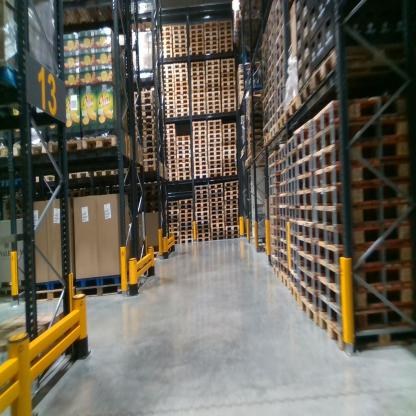pallet: (309, 42, 399, 96), (314, 95, 405, 144), (317, 289, 412, 330), (319, 314, 413, 354), (313, 174, 413, 211), (318, 275, 412, 314), (317, 259, 410, 297), (316, 139, 414, 175), (318, 218, 412, 255), (318, 241, 412, 275), (314, 121, 406, 153), (312, 159, 412, 187), (314, 201, 414, 228), (73, 281, 128, 308), (81, 131, 128, 160), (30, 288, 75, 311), (298, 265, 321, 308), (128, 13, 161, 37), (45, 137, 87, 155), (12, 139, 46, 161), (295, 75, 313, 113), (296, 234, 324, 258), (27, 171, 62, 189), (2, 281, 31, 301), (293, 121, 314, 148), (297, 223, 321, 245), (63, 167, 93, 184), (115, 162, 143, 180), (296, 252, 321, 272), (295, 140, 312, 169), (300, 299, 318, 325), (4, 174, 39, 187), (296, 156, 314, 180), (295, 172, 316, 192), (297, 189, 316, 211), (91, 166, 115, 182), (131, 88, 156, 102), (286, 270, 301, 292), (140, 157, 159, 174), (273, 40, 285, 66), (298, 205, 316, 222), (287, 98, 299, 123), (276, 26, 288, 51), (276, 76, 289, 99), (267, 162, 280, 185), (286, 146, 298, 169), (276, 100, 289, 121), (279, 239, 289, 265), (287, 233, 303, 249), (288, 206, 304, 222), (276, 49, 286, 74), (287, 244, 300, 263), (269, 234, 282, 252), (276, 64, 287, 85), (285, 135, 297, 154), (277, 143, 289, 162), (289, 284, 299, 306), (268, 85, 278, 107), (268, 222, 280, 240), (133, 129, 160, 137), (268, 181, 282, 196), (134, 102, 155, 112), (273, 5, 286, 21), (288, 193, 300, 210), (280, 276, 292, 293), (286, 164, 297, 182), (274, 90, 284, 109), (276, 15, 286, 34), (269, 110, 278, 131), (267, 80, 276, 101), (289, 257, 300, 274), (267, 152, 278, 169), (267, 192, 281, 205), (280, 255, 289, 274), (280, 226, 290, 243), (133, 122, 157, 129), (277, 157, 288, 172), (133, 97, 156, 104), (133, 116, 156, 123), (277, 114, 287, 130), (134, 109, 154, 117), (138, 134, 158, 142), (268, 215, 280, 228), (269, 245, 280, 259), (287, 176, 296, 193), (268, 48, 275, 69), (291, 218, 299, 236), (280, 166, 289, 182), (272, 265, 281, 281), (269, 203, 278, 219), (278, 191, 288, 205), (279, 203, 287, 220), (222, 170, 239, 178), (279, 217, 288, 232), (2, 146, 13, 158), (266, 104, 276, 117), (263, 122, 271, 138), (221, 143, 237, 151), (162, 128, 178, 136), (174, 107, 190, 115), (139, 140, 157, 147), (191, 92, 206, 100), (269, 70, 276, 87), (270, 59, 277, 76), (262, 113, 269, 130), (159, 22, 172, 31), (178, 203, 194, 210), (209, 187, 223, 195), (223, 194, 239, 201), (221, 101, 237, 108), (207, 123, 223, 130), (174, 62, 188, 70), (206, 58, 220, 66), (172, 51, 188, 58), (269, 259, 279, 270), (279, 179, 286, 194), (271, 123, 278, 138), (143, 146, 158, 153), (179, 198, 194, 205), (179, 220, 194, 227), (179, 226, 194, 233), (194, 210, 209, 217), (196, 237, 211, 244), (210, 232, 225, 239), (210, 219, 225, 226), (224, 224, 239, 231), (175, 161, 190, 168), (203, 44, 218, 51), (223, 123, 236, 131), (142, 152, 156, 159), (179, 217, 193, 224), (209, 196, 223, 203), (223, 167, 237, 174), (223, 158, 237, 165), (221, 66, 235, 73), (222, 92, 236, 99), (222, 106, 236, 113), (193, 152, 207, 159), (162, 133, 176, 140), (174, 80, 188, 87), (174, 72, 188, 79), (192, 110, 206, 117), (172, 23, 186, 30), (173, 47, 187, 54), (193, 206, 209, 212), (224, 181, 240, 187), (224, 229, 240, 235), (175, 135, 191, 141), (177, 176, 193, 182), (205, 77, 221, 83), (203, 48, 219, 54), (172, 33, 188, 39), (264, 133, 271, 146), (197, 231, 210, 238), (223, 132, 236, 139), (194, 157, 207, 164), (219, 48, 232, 55), (274, 0, 284, 9), (178, 212, 193, 218), (193, 189, 208, 195), (195, 219, 210, 225), (196, 227, 211, 233), (210, 236, 225, 242), (209, 201, 224, 207), (208, 192, 223, 198), (224, 189, 239, 195), (224, 199, 239, 205), (224, 204, 239, 210), (224, 208, 239, 214), (220, 71, 235, 77), (221, 97, 236, 103), (207, 120, 222, 126), (192, 143, 207, 149), (191, 121, 206, 127), (176, 144, 191, 150), (176, 147, 191, 153), (174, 99, 189, 105), (174, 90, 189, 96), (191, 70, 206, 76), (205, 82, 220, 88), (205, 86, 220, 92), (206, 103, 221, 109), (206, 109, 221, 115), (204, 26, 219, 32), (204, 21, 219, 27), (218, 20, 233, 26), (218, 24, 233, 30), (179, 207, 193, 213), (179, 228, 193, 234), (223, 162, 237, 168), (223, 140, 237, 146), (220, 59, 234, 65), (222, 79, 236, 85), (208, 137, 222, 143), (208, 164, 222, 170), (193, 127, 207, 133), (177, 152, 191, 158), (163, 146, 177, 152), (163, 138, 177, 144), (191, 75, 205, 81), (206, 64, 220, 70), (206, 67, 220, 73), (218, 39, 232, 45), (190, 45, 204, 51), (172, 29, 186, 35), (208, 206, 224, 211), (223, 184, 239, 189), (166, 171, 176, 179), (190, 62, 206, 67), (223, 129, 236, 135), (223, 84, 236, 90), (208, 142, 221, 148), (209, 172, 222, 178), (193, 148, 206, 154), (193, 135, 206, 141), (178, 171, 191, 177), (175, 77, 188, 83), (192, 85, 205, 91), (205, 30, 218, 36), (165, 154, 176, 161), (179, 237, 194, 242), (194, 202, 209, 207), (224, 217, 239, 222), (225, 234, 240, 239), (222, 155, 237, 160), (222, 151, 237, 156), (222, 138, 237, 143), (207, 132, 222, 137), (194, 175, 209, 180), (174, 113, 189, 118), (174, 95, 189, 100), (205, 73, 220, 78), (206, 101, 221, 106), (189, 23, 204, 28), (209, 160, 221, 166), (159, 124, 177, 128), (160, 31, 172, 37), (179, 234, 193, 239), (196, 224, 210, 229), (211, 228, 225, 233), (209, 183, 223, 188), (224, 213, 238, 218), (222, 89, 236, 94), (208, 155, 222, 160), (208, 168, 222, 173), (194, 170, 208, 175), (192, 131, 206, 136), (176, 140, 190, 145), (175, 104, 189, 109), (192, 89, 206, 94), (219, 30, 233, 35), (190, 41, 204, 46), (173, 42, 187, 47), (167, 209, 178, 215), (168, 200, 179, 206), (166, 163, 177, 169), (163, 114, 174, 120), (221, 76, 234, 81), (208, 146, 221, 151), (208, 151, 221, 156), (194, 161, 207, 166), (193, 140, 206, 145), (177, 158, 190, 163), (192, 102, 205, 107), (192, 97, 205, 102), (207, 92, 220, 97), (208, 224, 224, 228), (224, 221, 240, 225), (189, 51, 205, 55), (162, 52, 171, 59), (193, 185, 208, 189), (220, 63, 235, 67), (208, 130, 223, 134), (164, 143, 176, 148), (174, 87, 189, 91), (173, 69, 188, 73), (162, 64, 174, 69), (163, 109, 175, 114), (190, 81, 205, 85), (191, 67, 206, 71), (206, 97, 221, 101), (189, 29, 204, 33), (161, 48, 173, 53), (195, 195, 209, 199), (195, 216, 209, 220), (210, 215, 224, 219), (210, 211, 224, 215), (194, 166, 208, 170), (177, 167, 191, 171), (189, 38, 203, 42), (189, 33, 203, 37), (169, 228, 180, 233), (166, 177, 177, 182), (162, 73, 173, 78), (162, 78, 173, 83), (163, 96, 174, 101), (205, 40, 218, 44), (219, 35, 232, 39), (161, 40, 174, 44), (163, 83, 173, 88), (169, 233, 181, 237), (167, 215, 179, 219), (164, 160, 176, 164), (164, 151, 176, 155), (162, 92, 174, 96), (163, 105, 175, 109), (205, 36, 217, 40), (161, 44, 173, 48), (194, 199, 209, 202), (173, 39, 188, 42), (169, 224, 180, 228), (168, 219, 179, 223), (166, 168, 177, 172), (162, 69, 173, 73), (163, 88, 174, 92), (163, 101, 174, 105), (173, 241, 180, 247), (192, 107, 206, 110), (218, 45, 232, 48), (160, 37, 173, 40), (173, 237, 181, 241), (168, 206, 178, 209)
